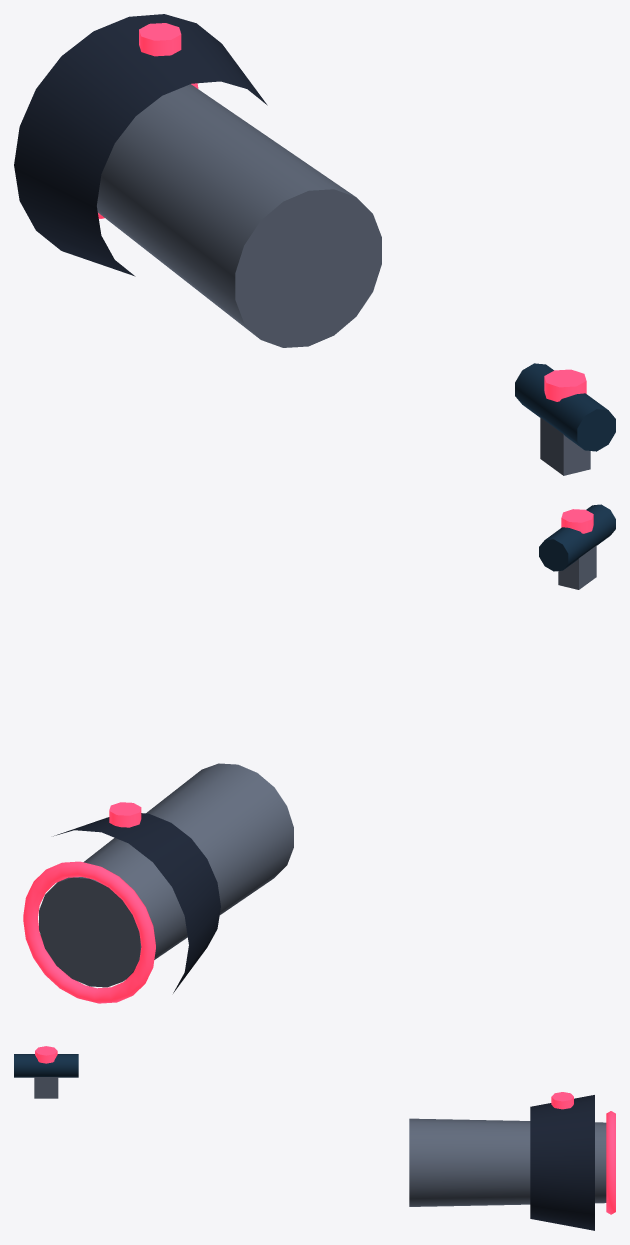
File: tower_filament_optics_s4.glb
The picture shows the model from 3 angles, top to bottom: view 1: azimuth 30°, elevation 25°; view 2: azimuth 150°, elevation 25°; view 3: azimuth 270°, elevation 25°; orthographic projection. The views are drawn at different scales.
Parts seen in each view (by area): view 1: filament_tube_ext, filament_lens_hood, filament_sight_glass, filament_sight_mount, filament_up_optics_l3_stud, filament_up_optics_l2_stud; view 2: filament_tube_ext, filament_lens_hood, filament_tube_ext_ring, filament_sight_glass, filament_sight_mount, filament_up_optics_l3_stud; view 3: filament_tube_ext, filament_lens_hood, filament_sight_glass, filament_tube_ext_ring, filament_sight_mount, filament_up_optics_l3_stud, filament_up_optics_l2_stud.
Boxes of the visible parts, x1=… form: filament_tube_ext: x1=97, y1=84, x2=381, y2=347; filament_lens_hood: x1=14, y1=14, x2=267, y2=276; filament_sight_glass: x1=515, y1=363, x2=615, y2=451; filament_sight_mount: x1=540, y1=417, x2=590, y2=475; filament_up_optics_l3_stud: x1=139, y1=23, x2=181, y2=56; filament_up_optics_l2_stud: x1=544, y1=369, x2=586, y2=401; filament_tube_ext: x1=39, y1=763, x2=293, y2=987; filament_lens_hood: x1=53, y1=813, x2=220, y2=993; filament_tube_ext_ring: x1=23, y1=861, x2=155, y2=1003; filament_sight_glass: x1=539, y1=504, x2=615, y2=571; filament_sight_mount: x1=558, y1=545, x2=596, y2=589; filament_up_optics_l3_stud: x1=109, y1=802, x2=141, y2=827; filament_tube_ext: x1=409, y1=1118, x2=606, y2=1206; filament_lens_hood: x1=530, y1=1095, x2=594, y2=1230; filament_sight_glass: x1=14, y1=1054, x2=78, y2=1077; filament_tube_ext_ring: x1=606, y1=1111, x2=615, y2=1214; filament_sight_mount: x1=34, y1=1077, x2=58, y2=1098; filament_up_optics_l3_stud: x1=551, y1=1092, x2=573, y2=1109; filament_up_optics_l2_stud: x1=35, y1=1046, x2=57, y2=1063.
Size of the model in its own units: 0.34 by 0.411 by 1.49.
